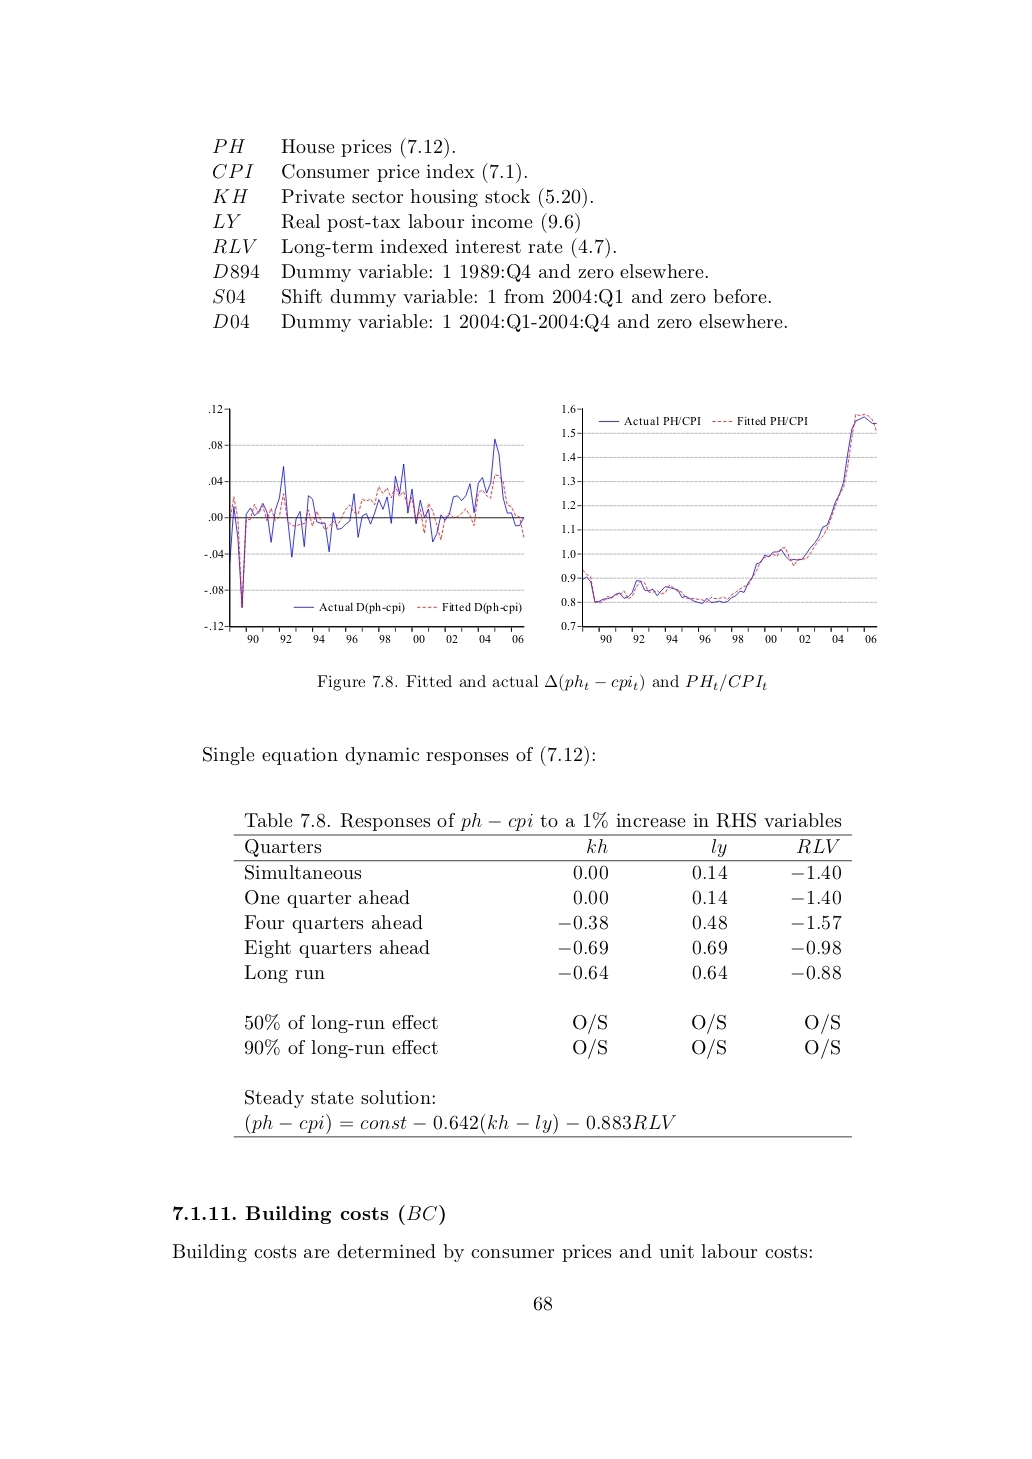Table: (233, 834, 851, 1138)
figure: (204, 404, 524, 644), (561, 404, 877, 644)
